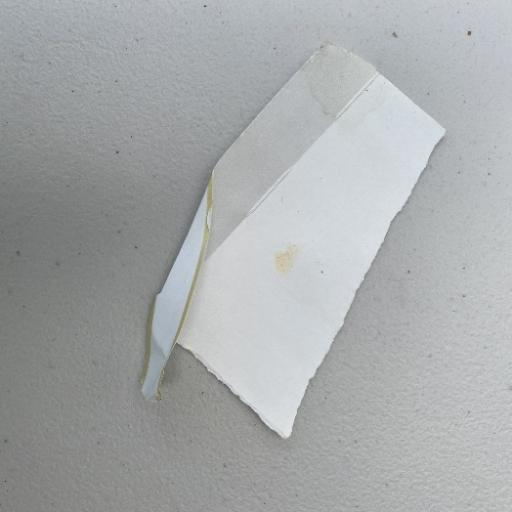Cardboard: (138, 40, 448, 441)
